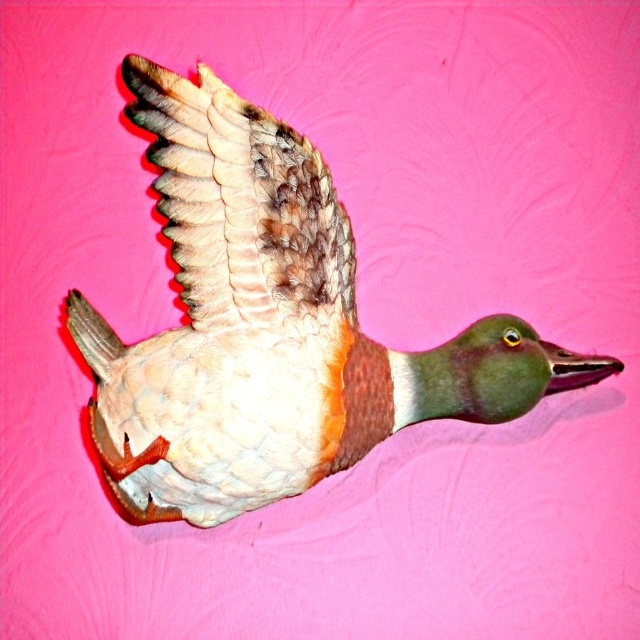Duck: (57, 53, 630, 533)
